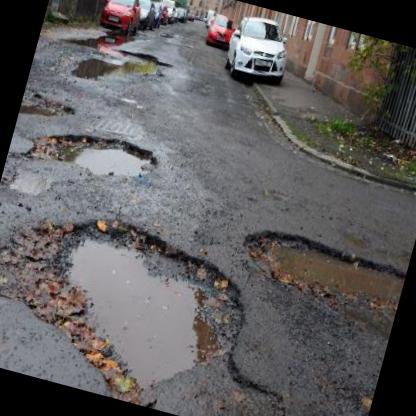pothole: (0, 187, 268, 416), (232, 218, 408, 320), (18, 112, 163, 196), (110, 44, 174, 84), (18, 87, 77, 129), (66, 46, 118, 90)
